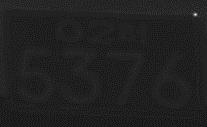0: (54, 19, 84, 44)
2: (87, 18, 116, 44)
3: (60, 49, 99, 104)
5: (19, 48, 54, 103)
6: (151, 49, 191, 110)
7: (104, 51, 144, 102)
머: (118, 21, 147, 42)
